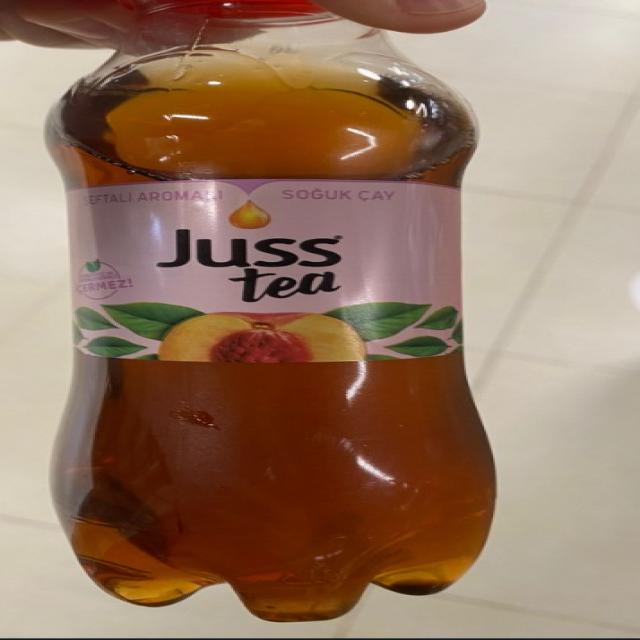yan_yemek: (39, 1, 498, 622)
